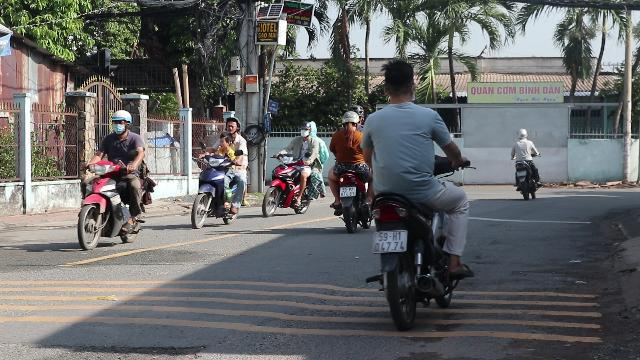helmet: (108, 109, 132, 135), (340, 111, 360, 129), (223, 114, 240, 134), (298, 121, 312, 137)
licenseplate: (373, 230, 407, 252), (340, 188, 356, 196)
motorcyclist: (360, 59, 472, 327), (73, 109, 153, 251), (190, 113, 250, 229), (262, 120, 322, 216), (326, 108, 370, 229)
nohelmet: (379, 59, 418, 103), (217, 131, 231, 148)
